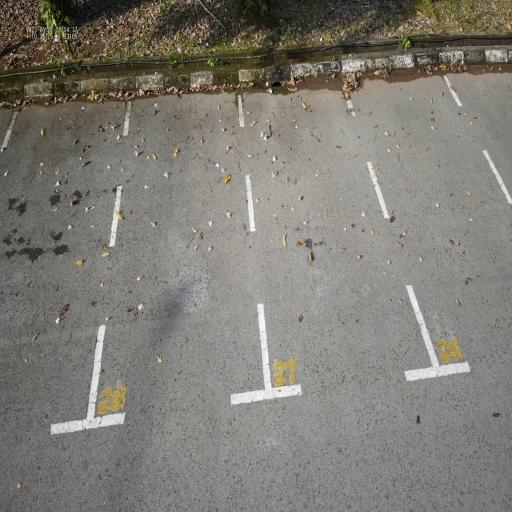Empty: (235, 73, 449, 410), (83, 68, 275, 441)
